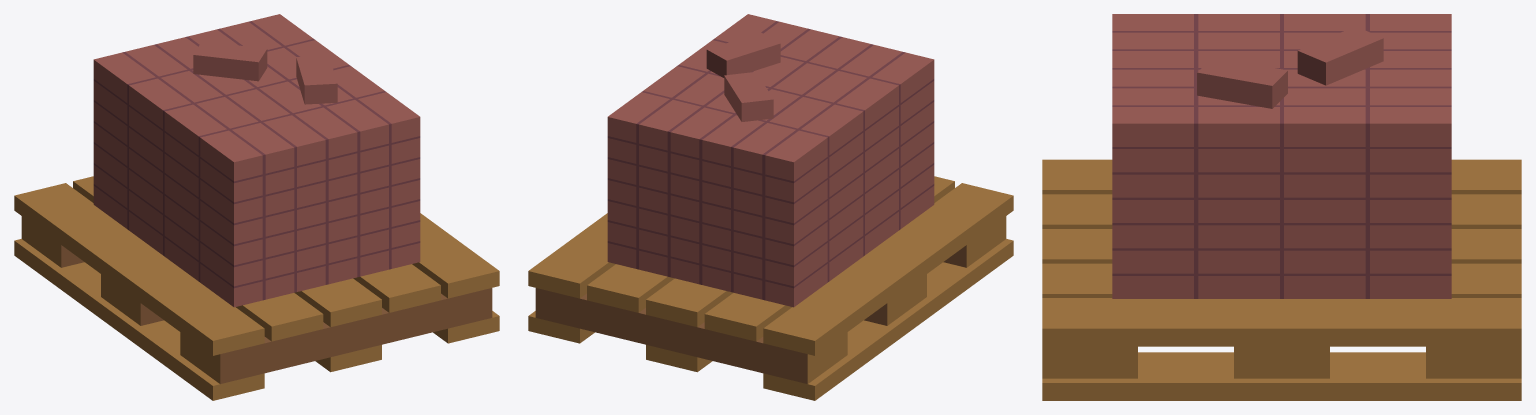
The model's file is brick-plain-stack.fbx.
3 renders of one model, left to right at view 1: azimuth 30°, elevation 25°; view 2: azimuth 150°, elevation 25°; view 3: azimuth 270°, elevation 25°, orthographic. The views are drawn at different scales.
Parts seen in each view (by area): view 1: brick-plain-stack; view 2: brick-plain-stack; view 3: brick-plain-stack.
Boxes of the visible parts, x1,y1,x2,y2 form: brick-plain-stack: (14, 14, 499, 400); brick-plain-stack: (528, 14, 1013, 400); brick-plain-stack: (1042, 14, 1521, 400).
Bounding box in the file's own units: 1.1 × 0.822 × 1.32.
